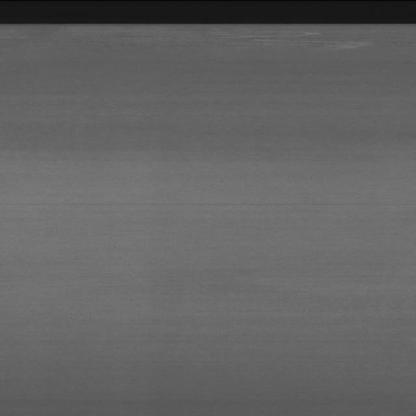silk_spot: (225, 26, 379, 56)
